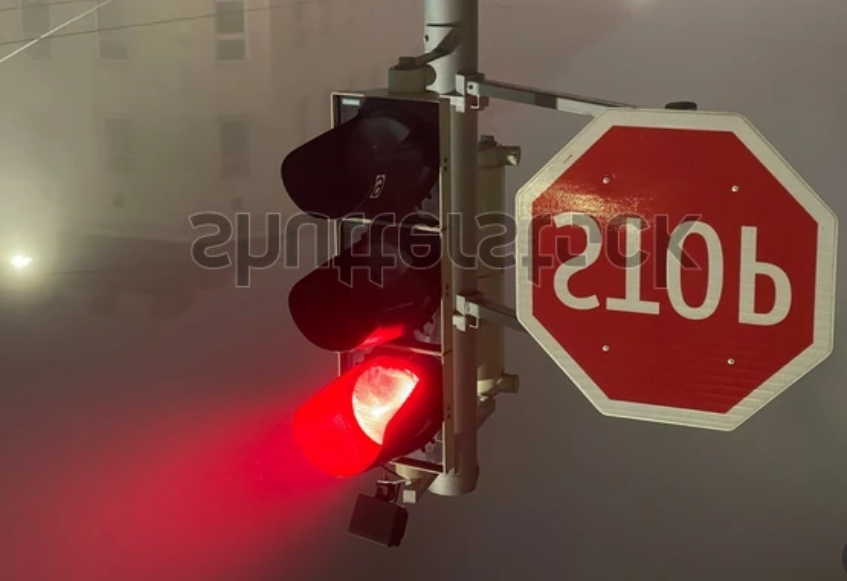Stop: (503, 98, 829, 439)
Traffic lights: (262, 91, 463, 490)
